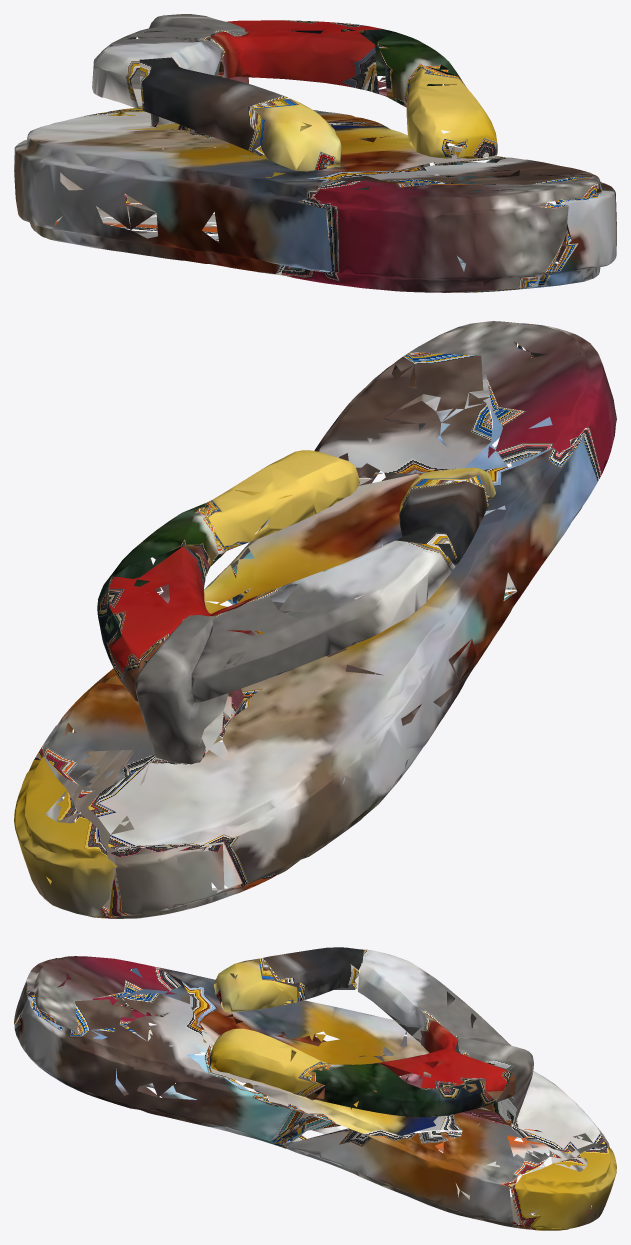
Rendered from rest-badelatsche.glb.
The picture shows the model from 3 angles, top to bottom: view 1: azimuth 30°, elevation 25°; view 2: azimuth 150°, elevation 25°; view 3: azimuth 270°, elevation 25°; orthographic projection. The views are drawn at different scales.
Parts seen in each view (by area): view 1: rest-badelatsche; view 2: rest-badelatsche; view 3: rest-badelatsche.
Boxes of the visible parts, <box> form: rest-badelatsche: <box>14,14,616,292</box>; rest-badelatsche: <box>14,321,616,918</box>; rest-badelatsche: <box>14,947,616,1230</box>.
Bounding box in the file's own units: 0.0561 × 0.0537 × 0.1338.
Materials: 1 (1 with a texture image).
